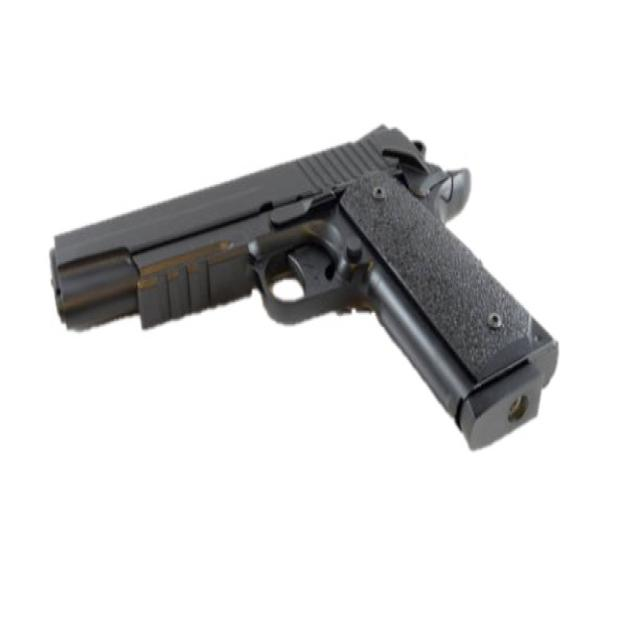pistol: (47, 113, 565, 462)
